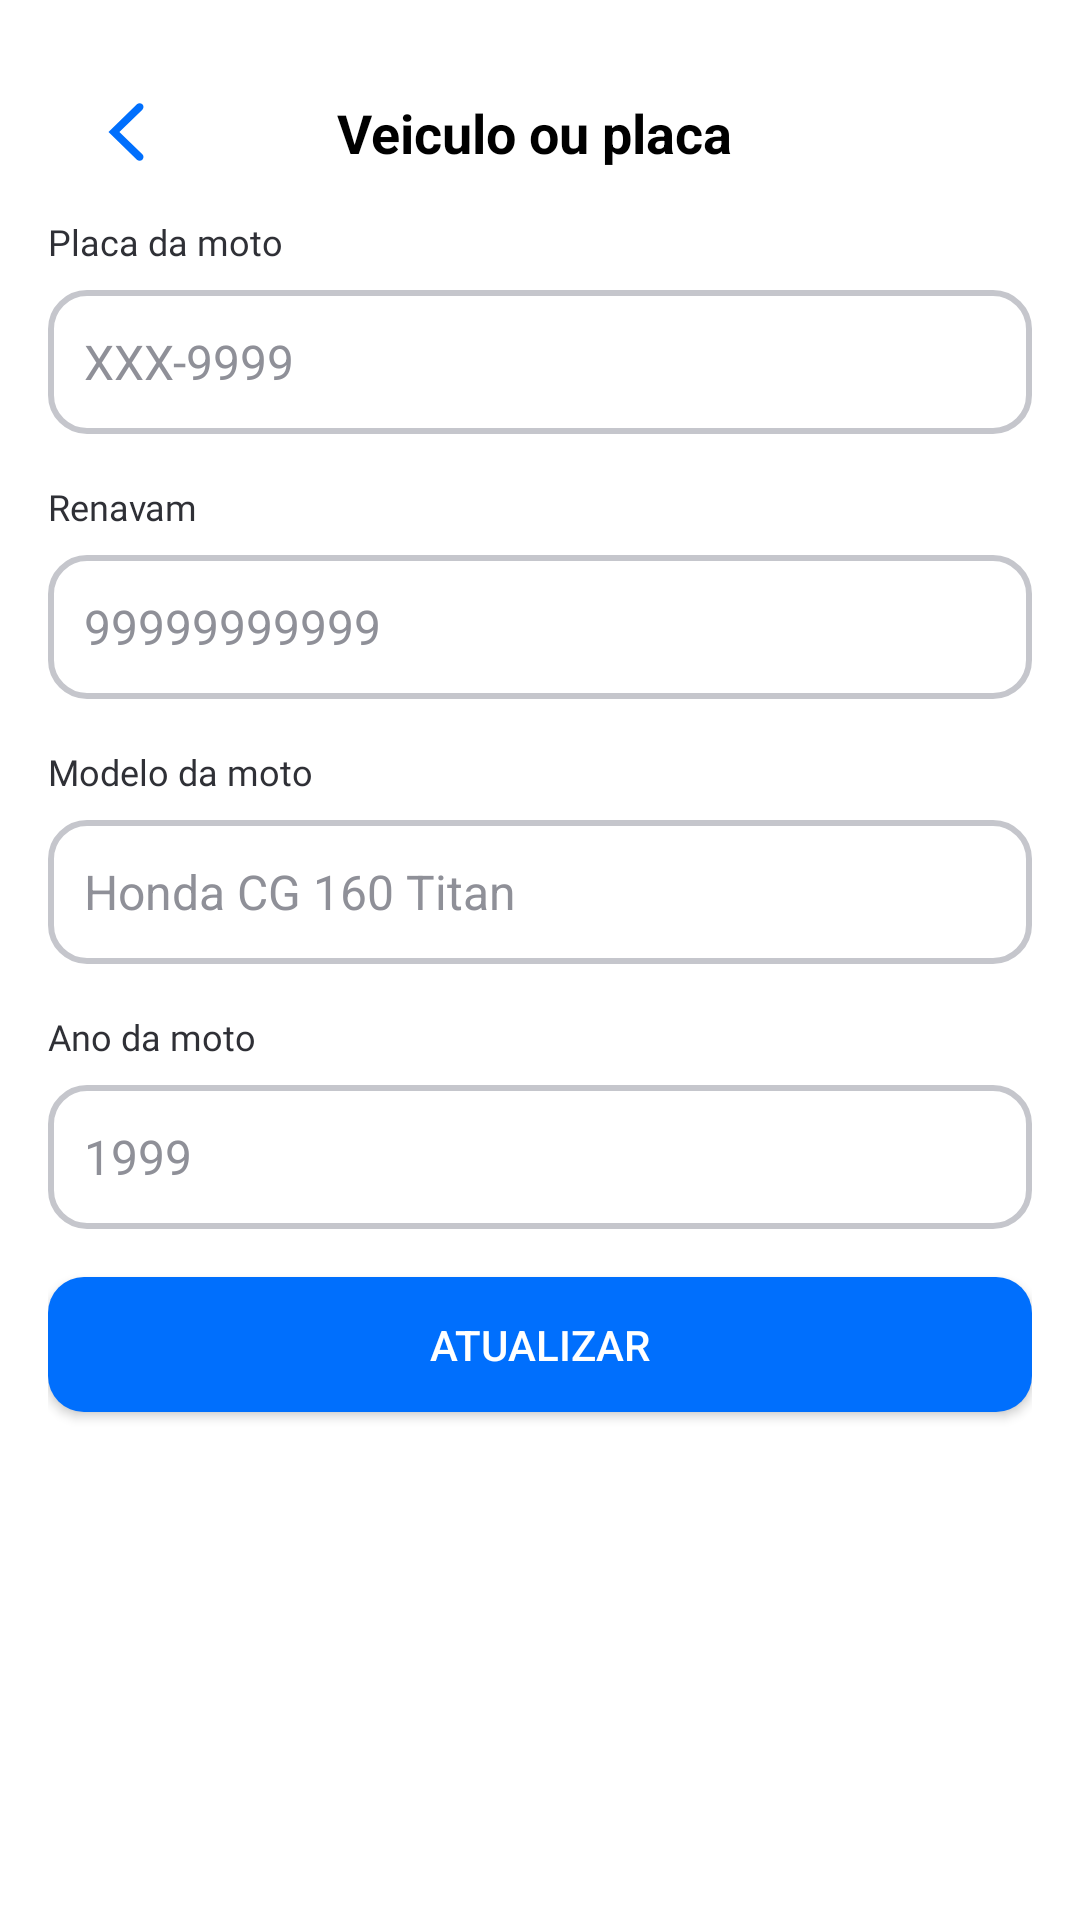

Where icons sit on this 1080px x 1920px app screen, as (x1, y1, x2, y2):
Voltar: (108, 103, 144, 161)
